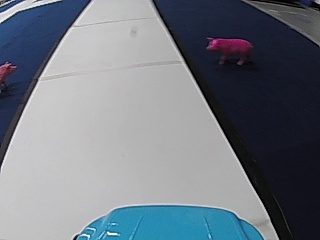pig: (203, 33, 253, 66)
